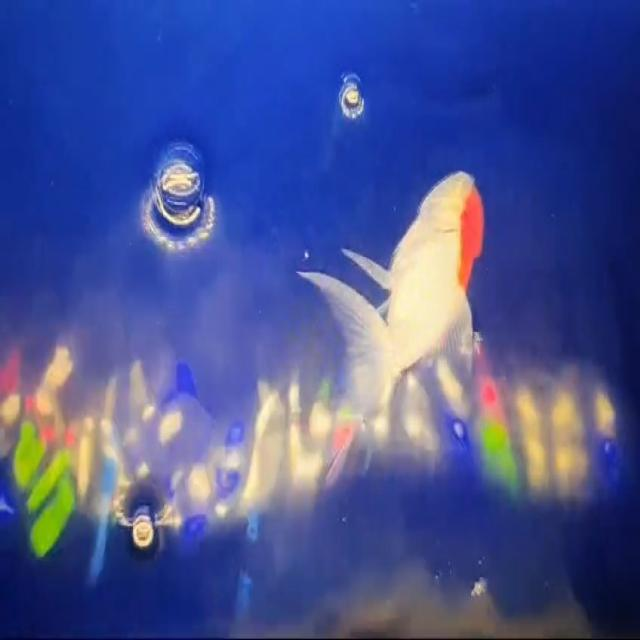fish: (300, 166, 488, 456)
